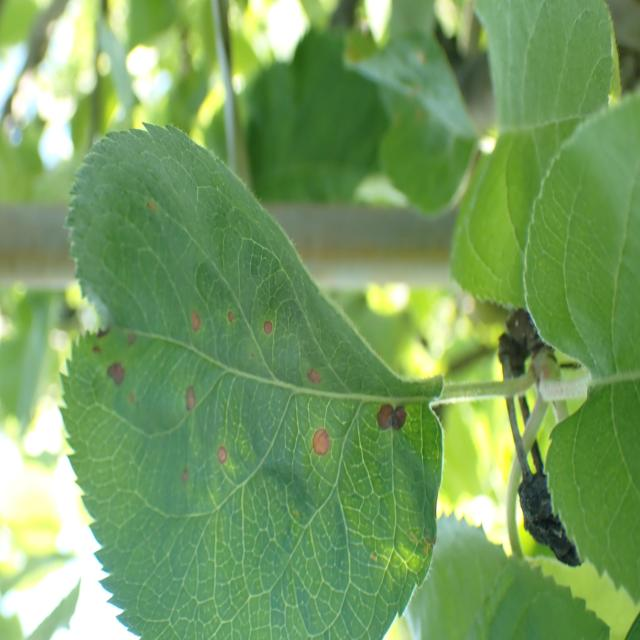frog-eye-leaf-spot: (57, 123, 447, 640)
